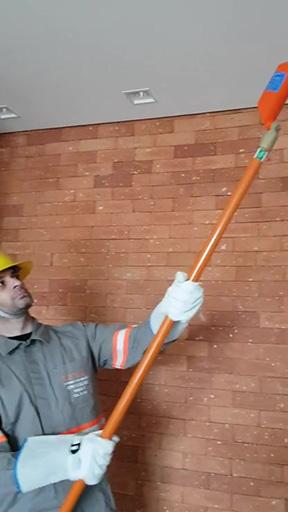Vara_Manobra: (54, 125, 282, 512)
